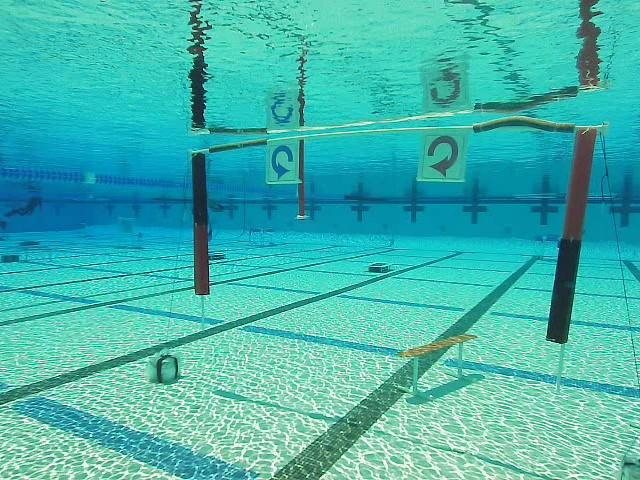dropper: (366, 260, 391, 274)
gate: (192, 116, 605, 345)
gate_blue: (265, 142, 299, 184)
gate_leg_l: (191, 149, 210, 295)
gate_leg_r: (546, 124, 604, 344)
gate_red: (419, 131, 467, 182)
